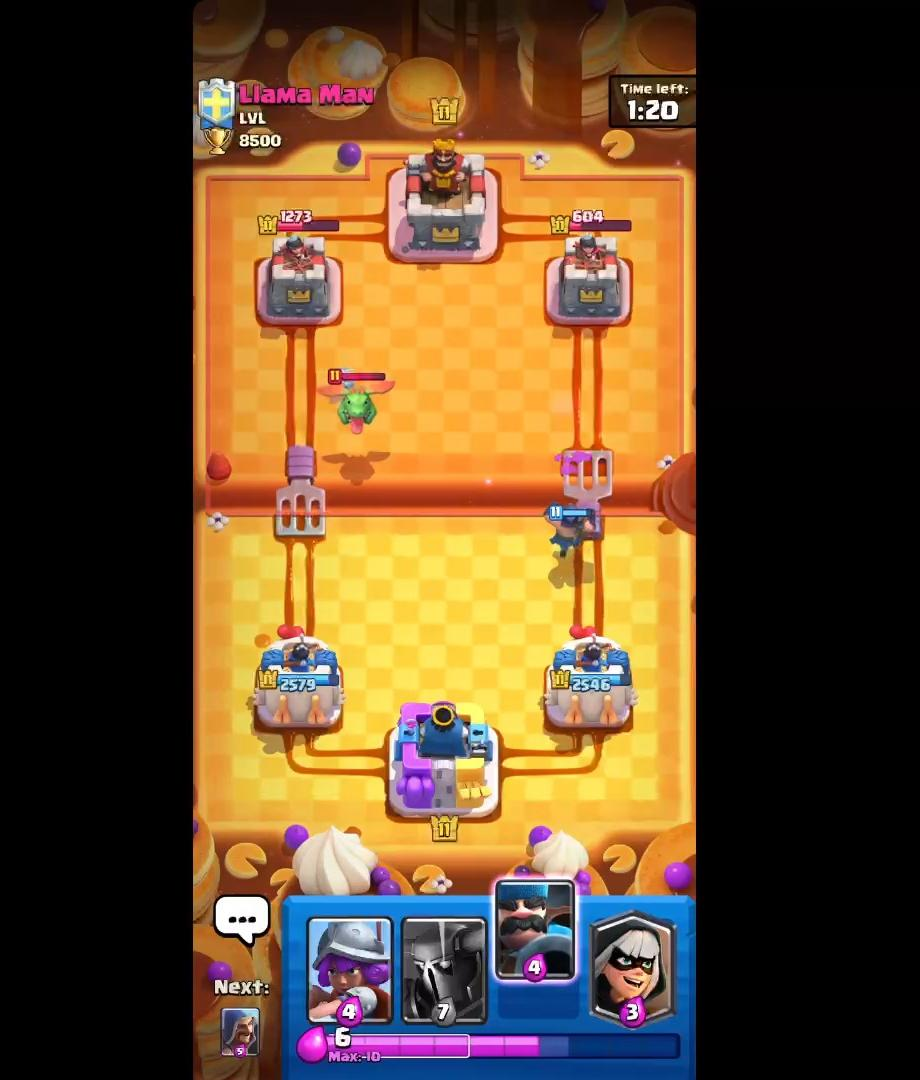Baby Dragon: (309, 361, 403, 438)
